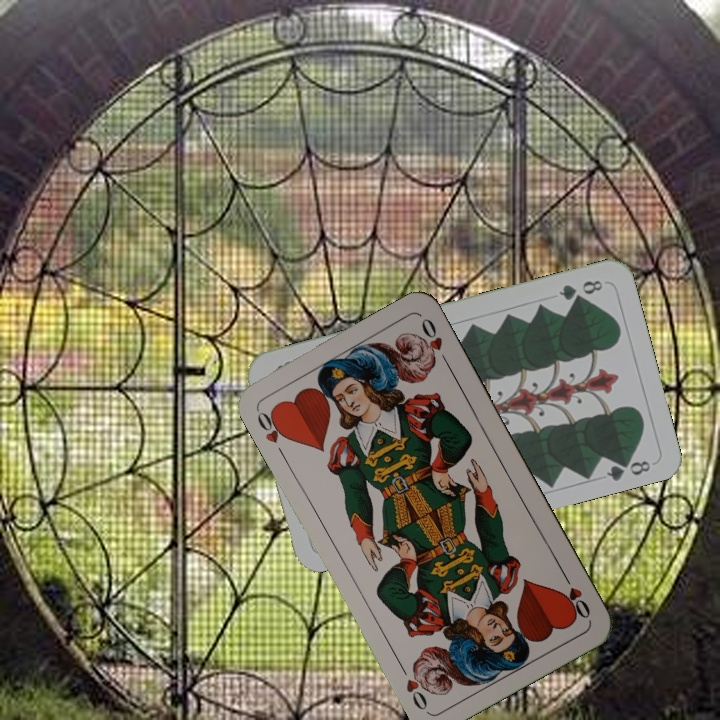G8: (555, 276, 606, 304)
HO: (558, 568, 593, 622), (252, 405, 291, 446)
